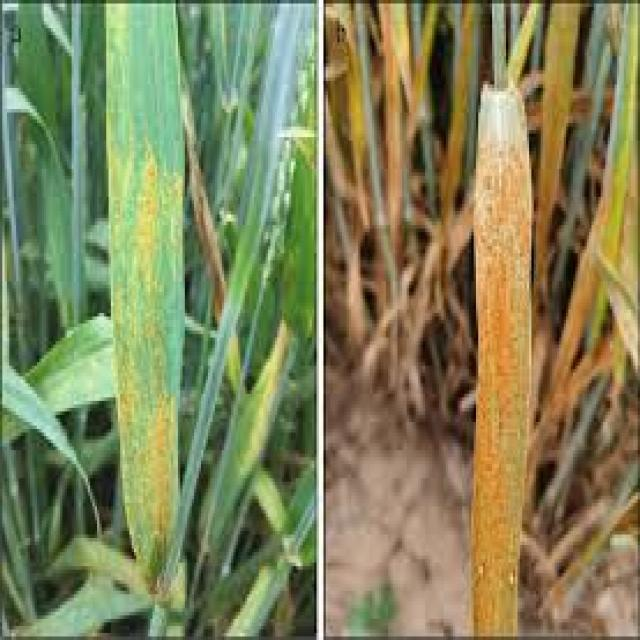leaf rust: (457, 91, 557, 640), (106, 113, 185, 552)
